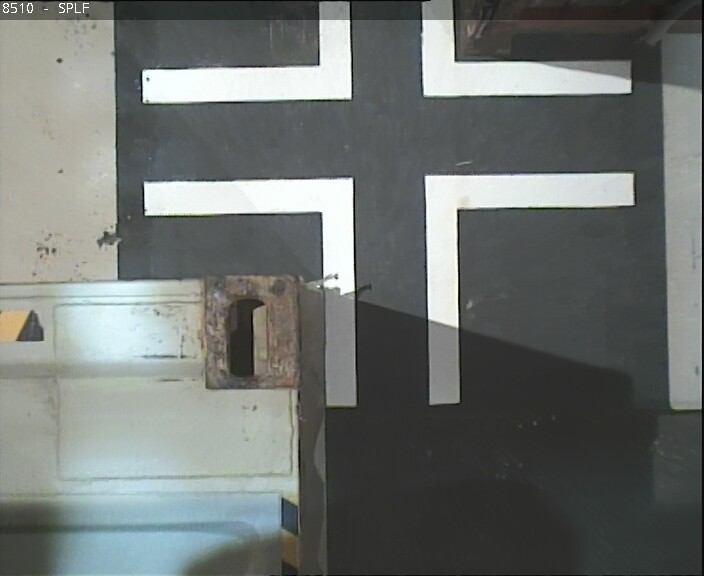groundmarker_1: (141, 170, 631, 408)
